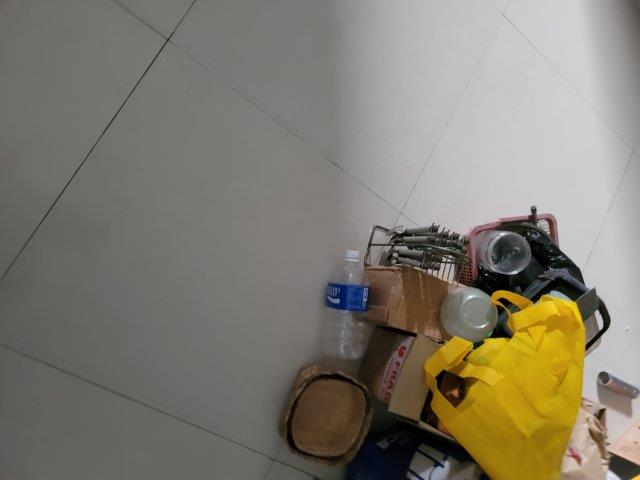botolplastik: (322, 250, 369, 363)
